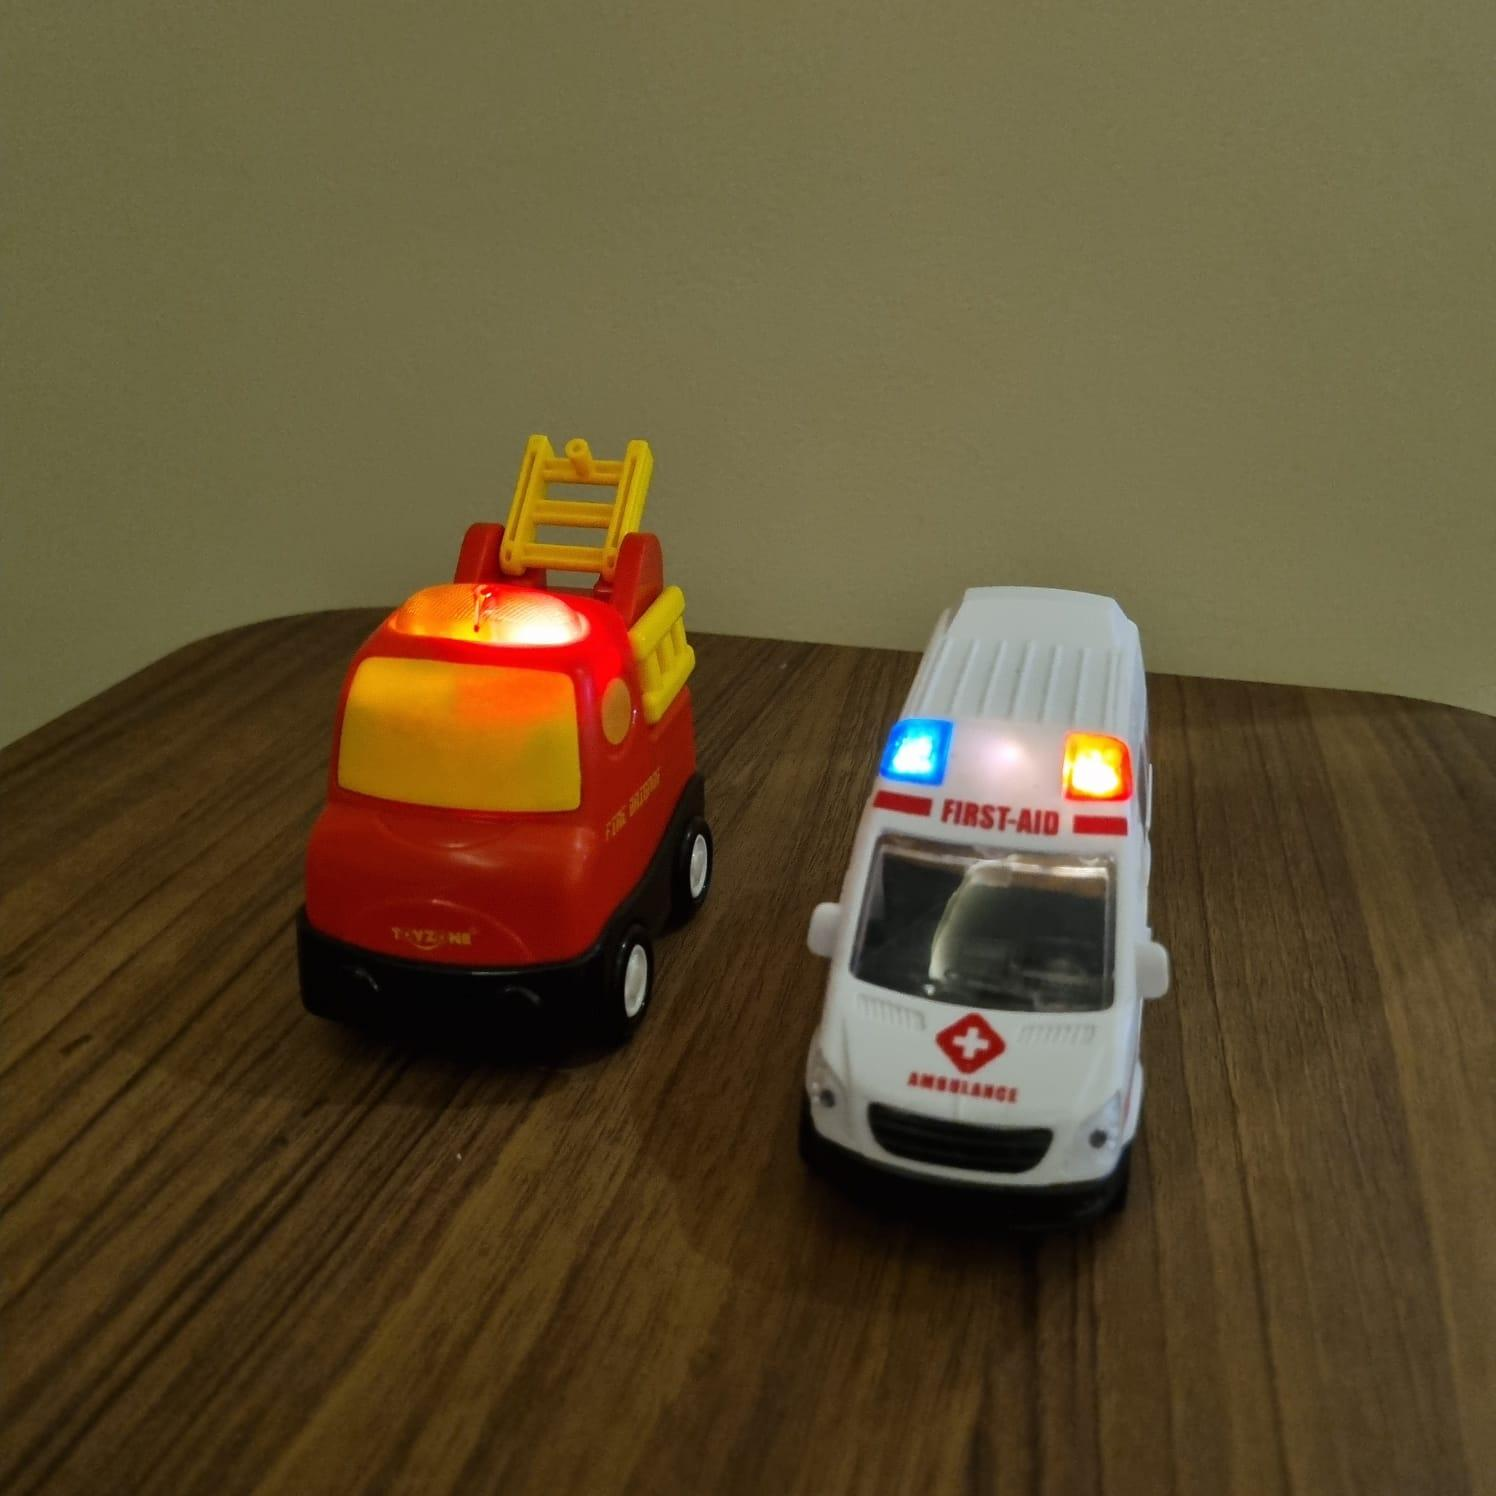ambulance_on: (801, 585, 1174, 1225)
firetruck_on: (293, 430, 718, 1060)
